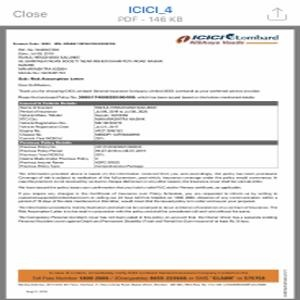image: (172, 32, 284, 48)
table: (16, 99, 278, 140), (16, 141, 278, 168)
text: (9, 39, 263, 100), (18, 170, 277, 224)
